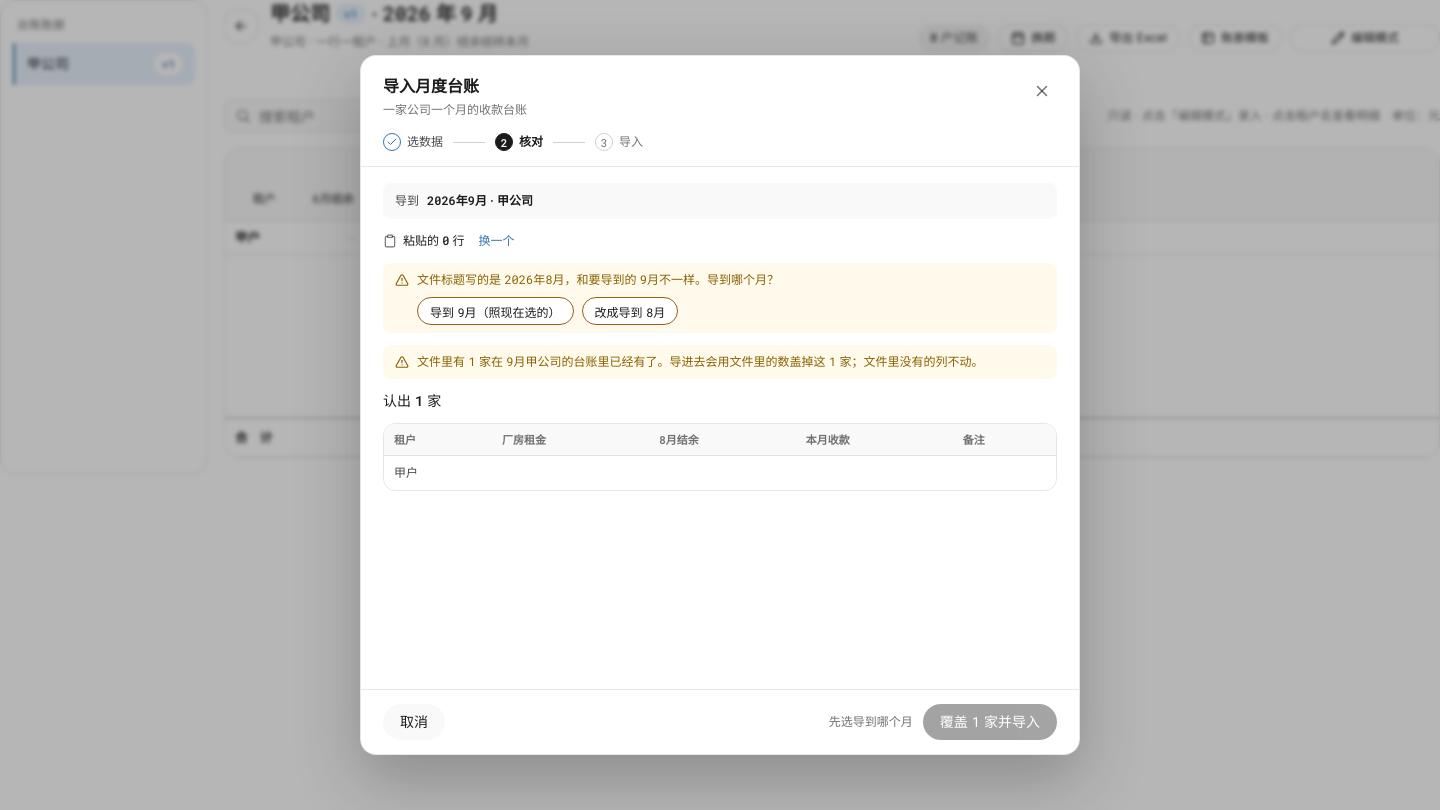
月度台账 · 导入走弹窗的 runner › ❗核对页:文件月 ≠ 本月,二选一前主按钮灰、不发确认框;改成导到 8 月 → 按 8 月查会盖掉几家(结转虚行不算)、按 8 月导
Expected: the element with class "fpimp-target" reads "导到 2026年9月 · 甲公司", [383,183,1057,219]
Expected: the button "覆盖 1 家并导入" is shown, [923,704,1057,740]
Click the button "改成导到 8月".
click(630, 311)  # box [582,297,678,325]
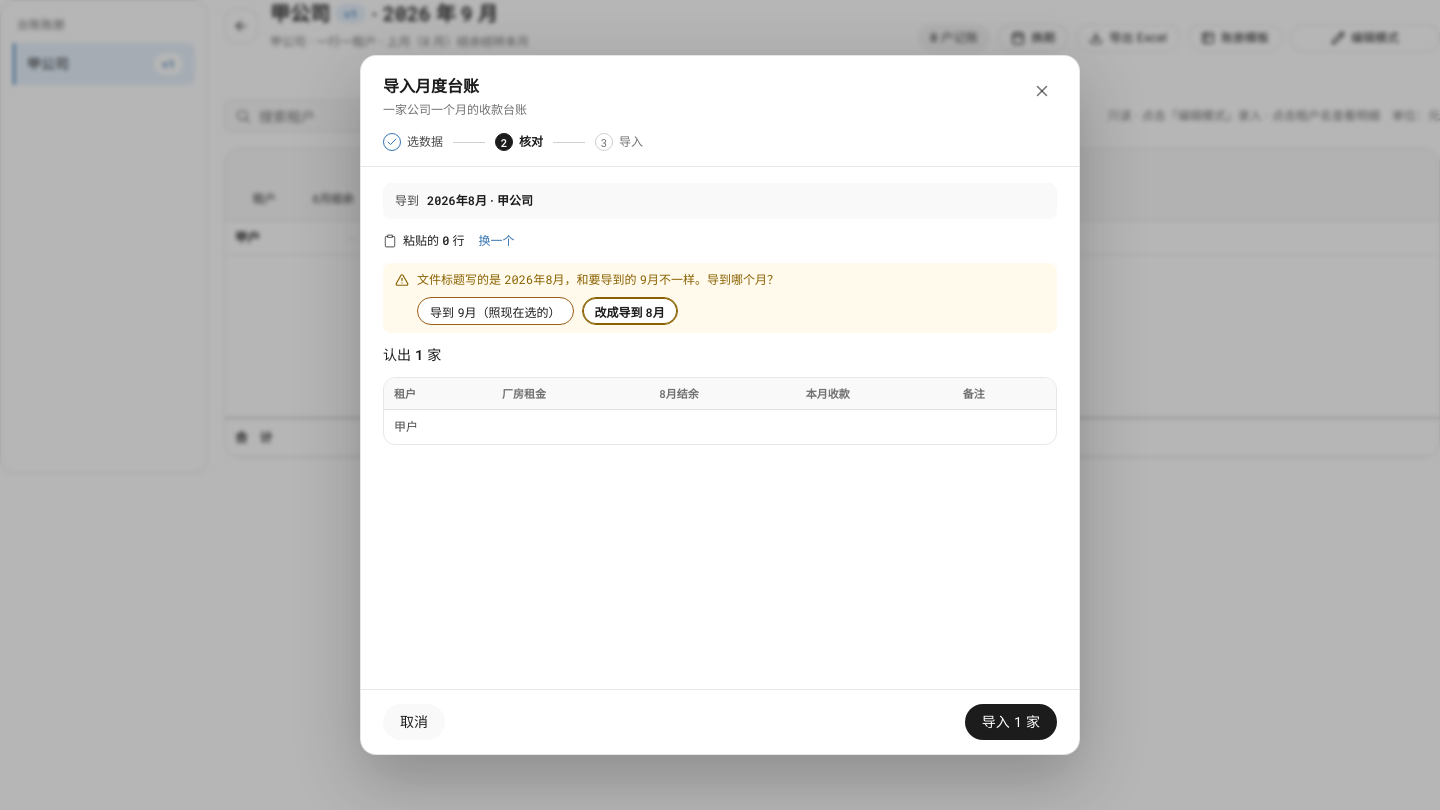
Expected: the element with class "fpimp-target" reads "导到 2026年8月 · 甲公司", [383,183,1057,219]
Expected: the button "导入 1 家" is shown
Click the button "导入 1 家".
click(1011, 722)  # box [965,704,1057,740]
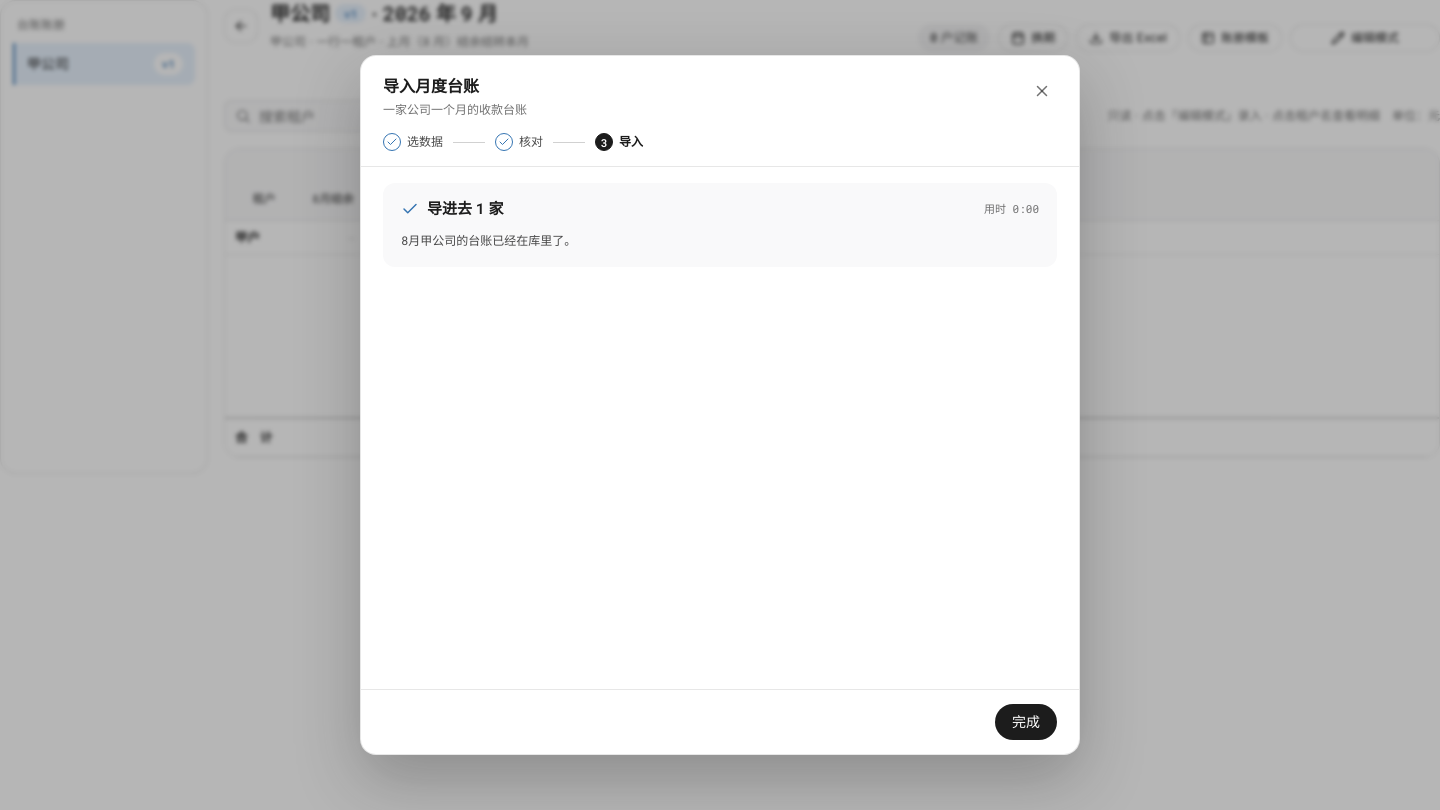
Expected: the text with class "irc-p" reads "8月甲公司的台账已经在库里了。", [401,233,576,248]
